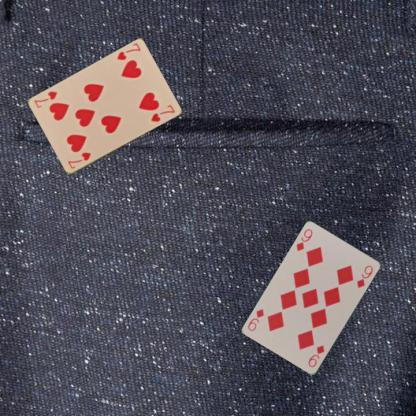7h: (115, 40, 142, 62), (65, 150, 92, 171)
9d: (306, 342, 326, 368), (294, 226, 314, 252)
